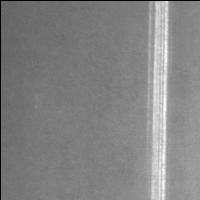scratches: (145, 1, 173, 200)
